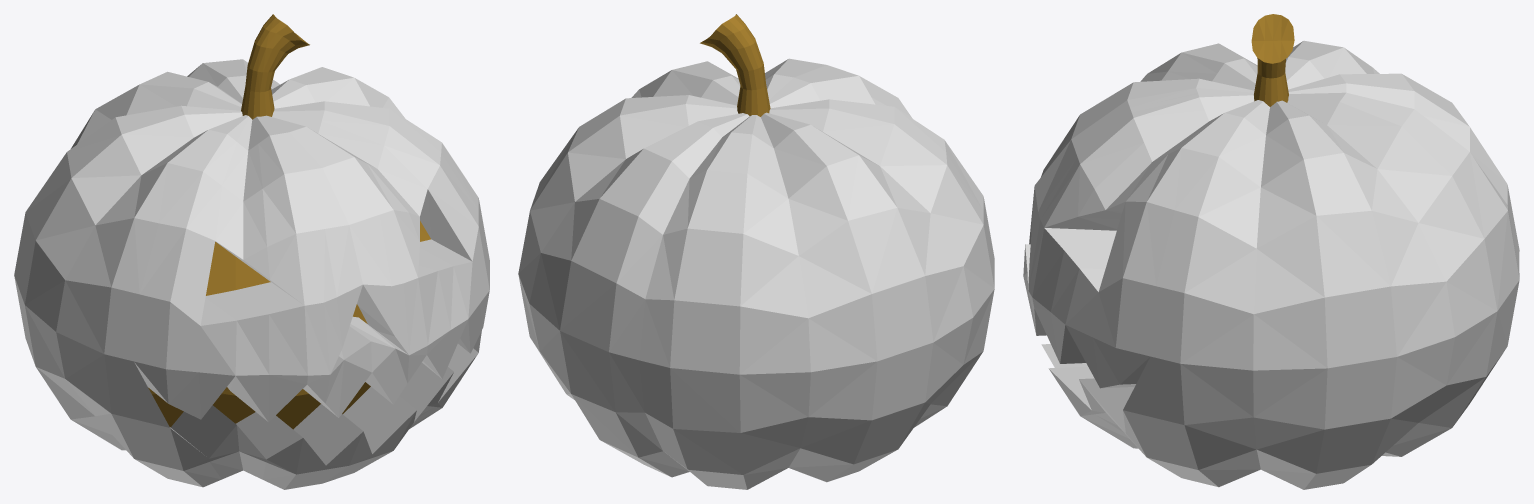
The model's file is cggu6F8hvCm.glb.
3 renders of one model, left to right at view 1: azimuth 30°, elevation 25°; view 2: azimuth 150°, elevation 25°; view 3: azimuth 270°, elevation 25°, orthographic. The views are drawn at different scales.
Parts seen in each view (by area): view 1: Jack_O_Lantern; view 2: Jack_O_Lantern; view 3: Jack_O_Lantern.
Part boxes in pixels (box(x1,y1,x2,y2)): Jack_O_Lantern: box(14, 14, 489, 489); Jack_O_Lantern: box(518, 14, 994, 489); Jack_O_Lantern: box(1023, 14, 1519, 489).
Size of the model in its own units: 1.03 by 1 by 1.03.
